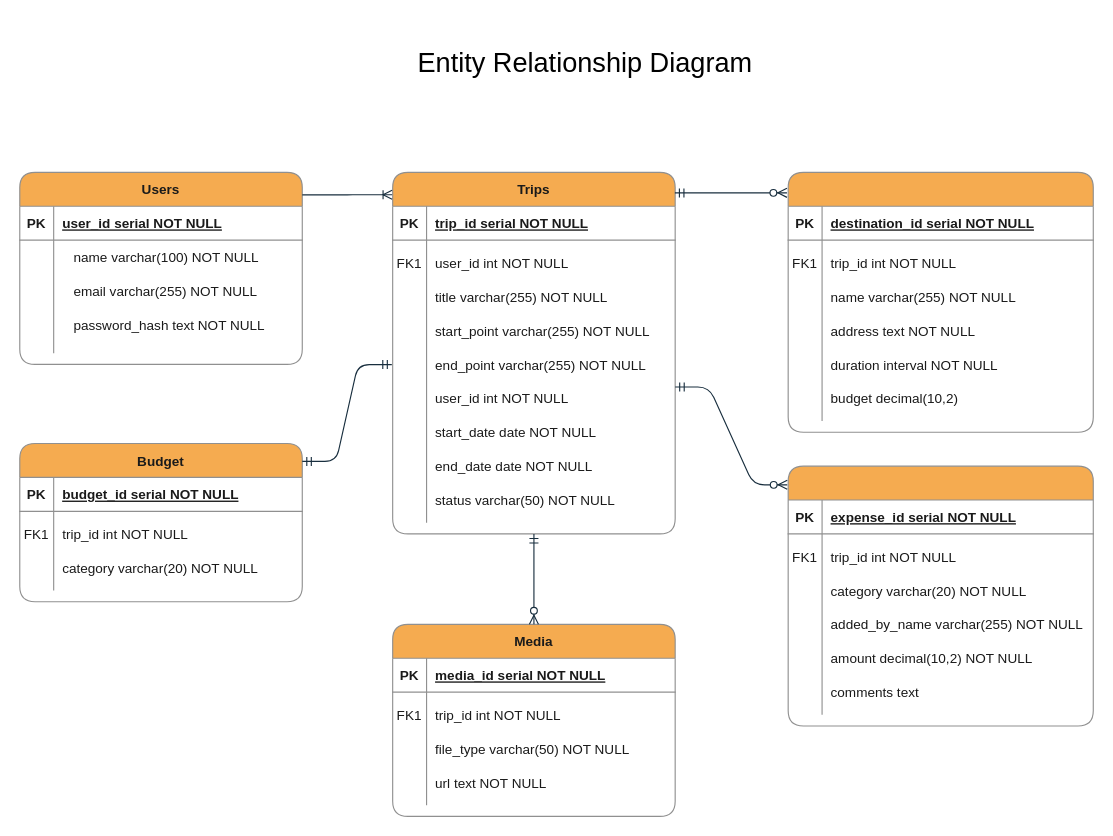
This 1113x836 diagram has some shape labels left out. The box of each missing label's shape, as (x1, y1, x2, y2) in pixels:
Destinations: (787, 171, 1093, 432)
Expenses: (787, 465, 1093, 726)
